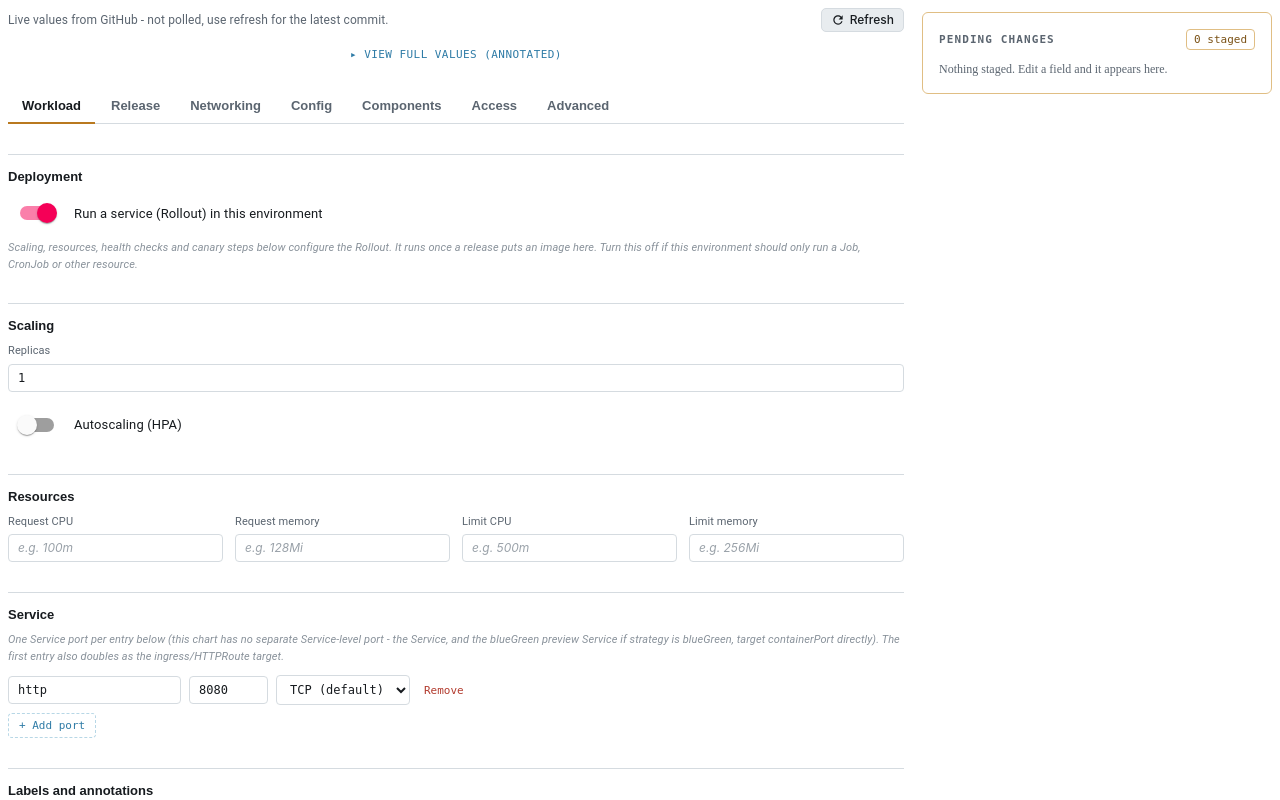
Test case: values form: analysis templates and their scope › does not judge a cluster template when the cluster list is unknown, and says so
The width and height of the screenshot is (1280, 800).
Click the tab "Release".
click(136, 107)  # box [97, 89, 174, 124]
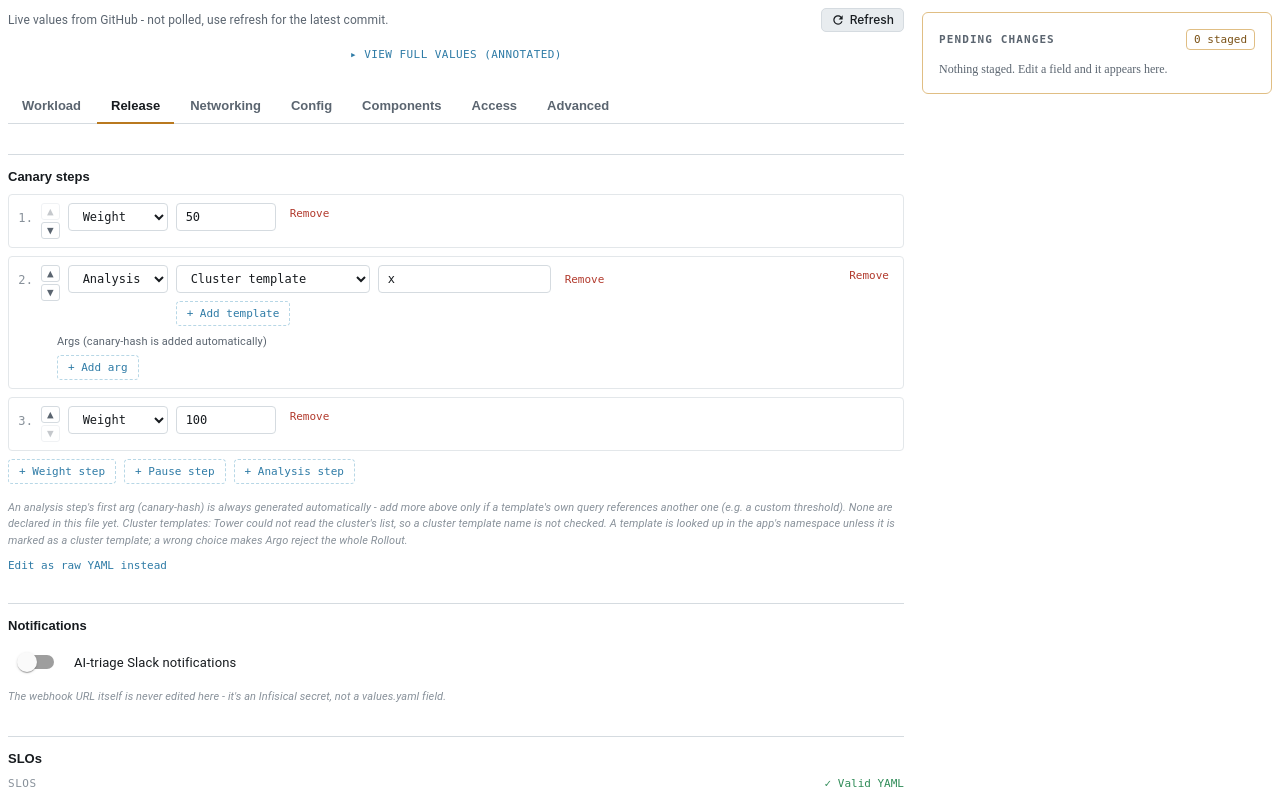
Expected: the text "Tower could not read the cluster's list" is shown, [120, 517, 607, 530]
